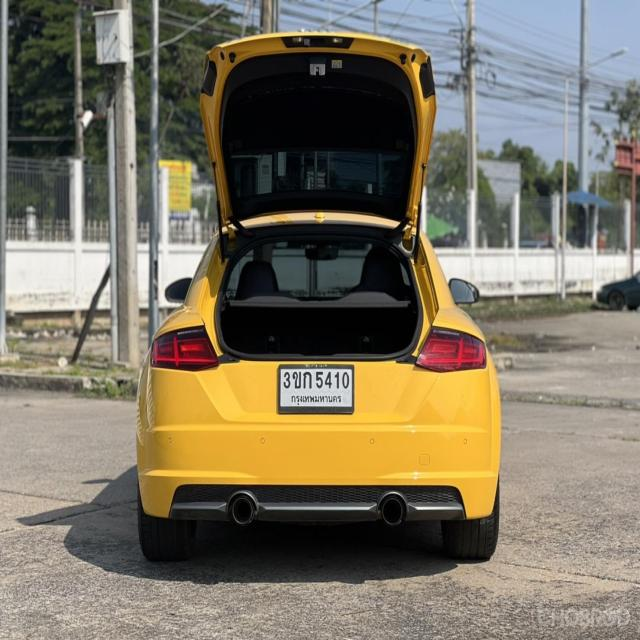license_plate: (278, 362, 356, 417)
